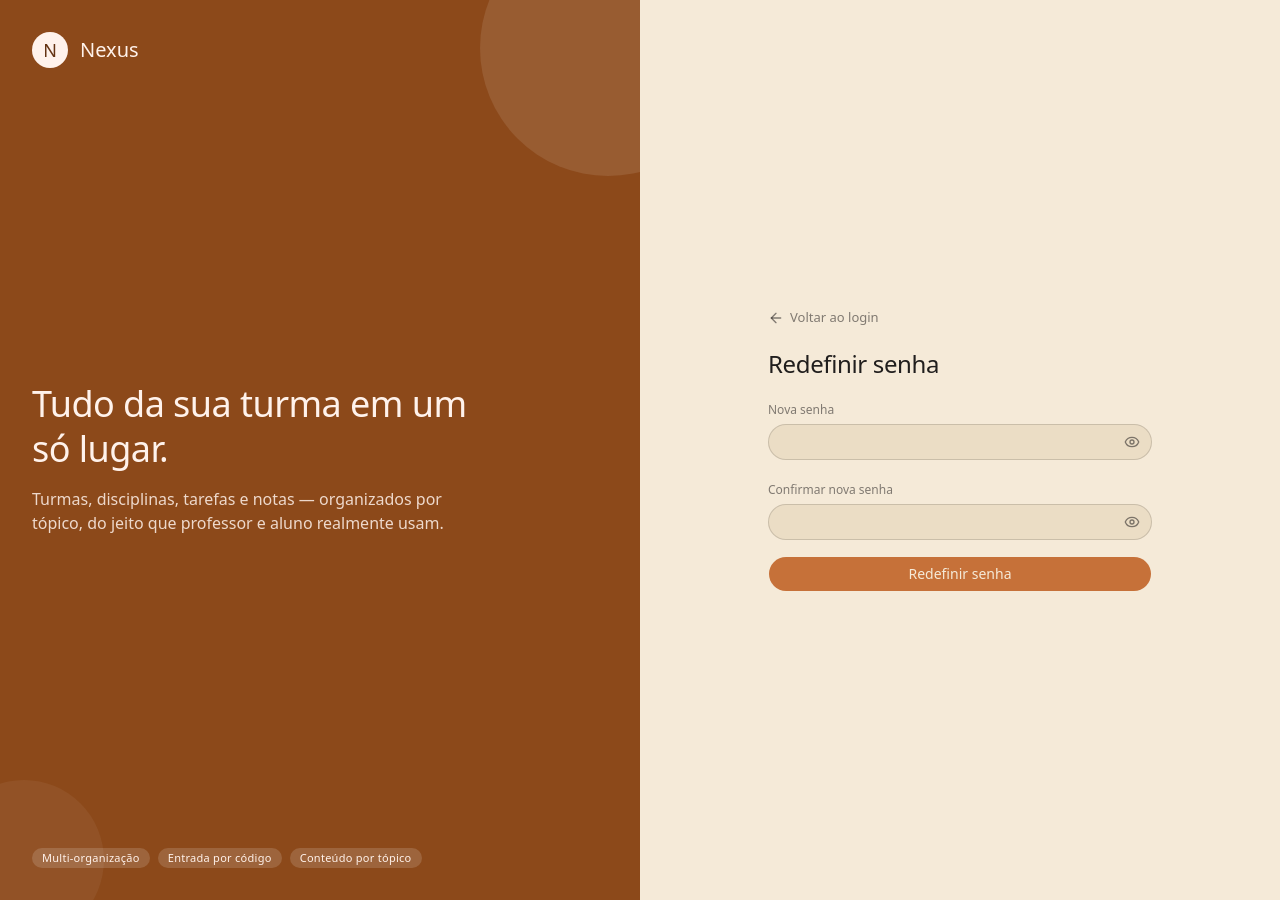
Test: ResetPasswordPage › tells the user to ask for a new link when the token is spent
The image size is (1280, 900).
Type "Senha@123" into the password field labelled "Nova senha" at point(960, 442), box [768,424,1152,460]
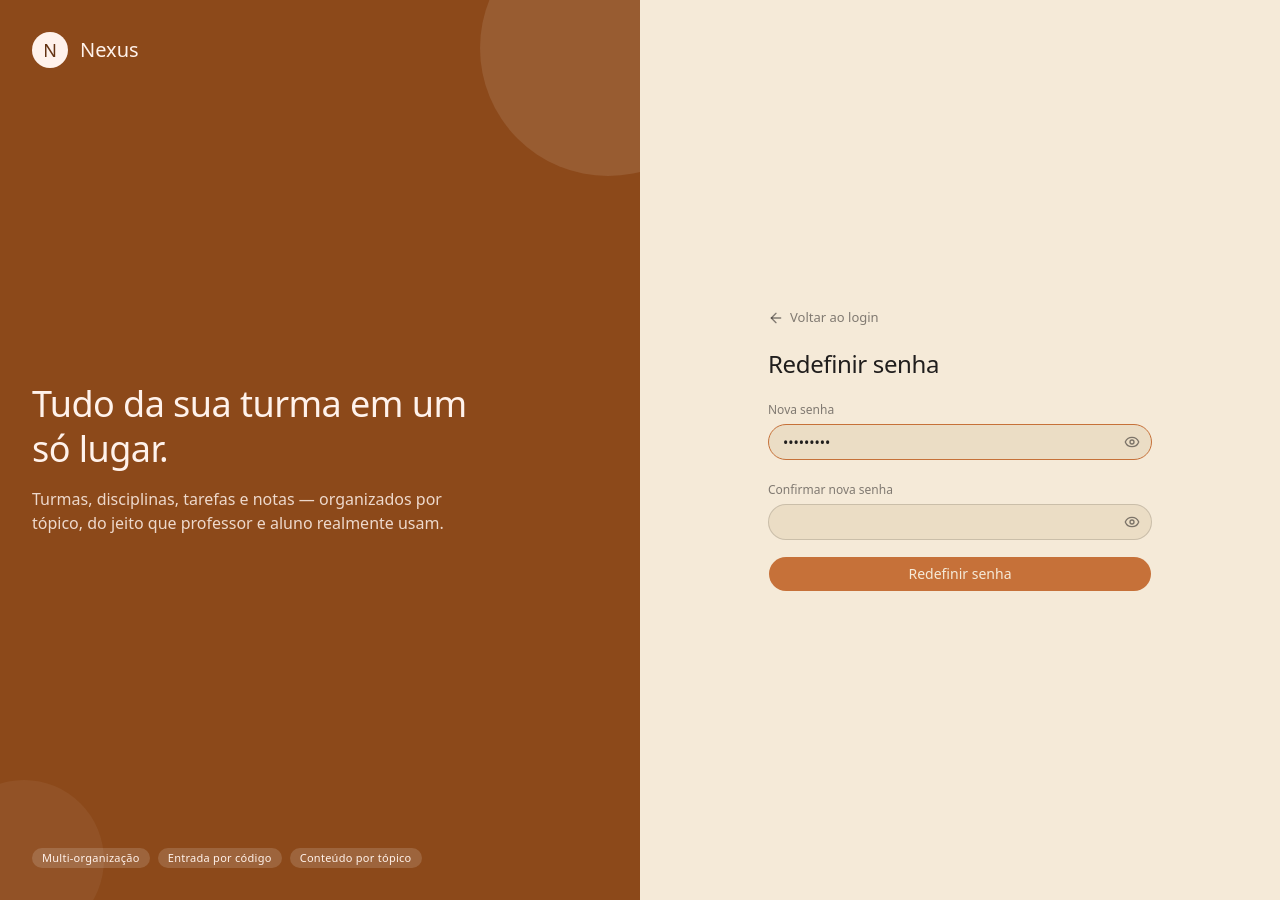
Type "Senha@123" into the password field labelled "Confirmar nova senha" at point(960, 522), box [768,504,1152,540]
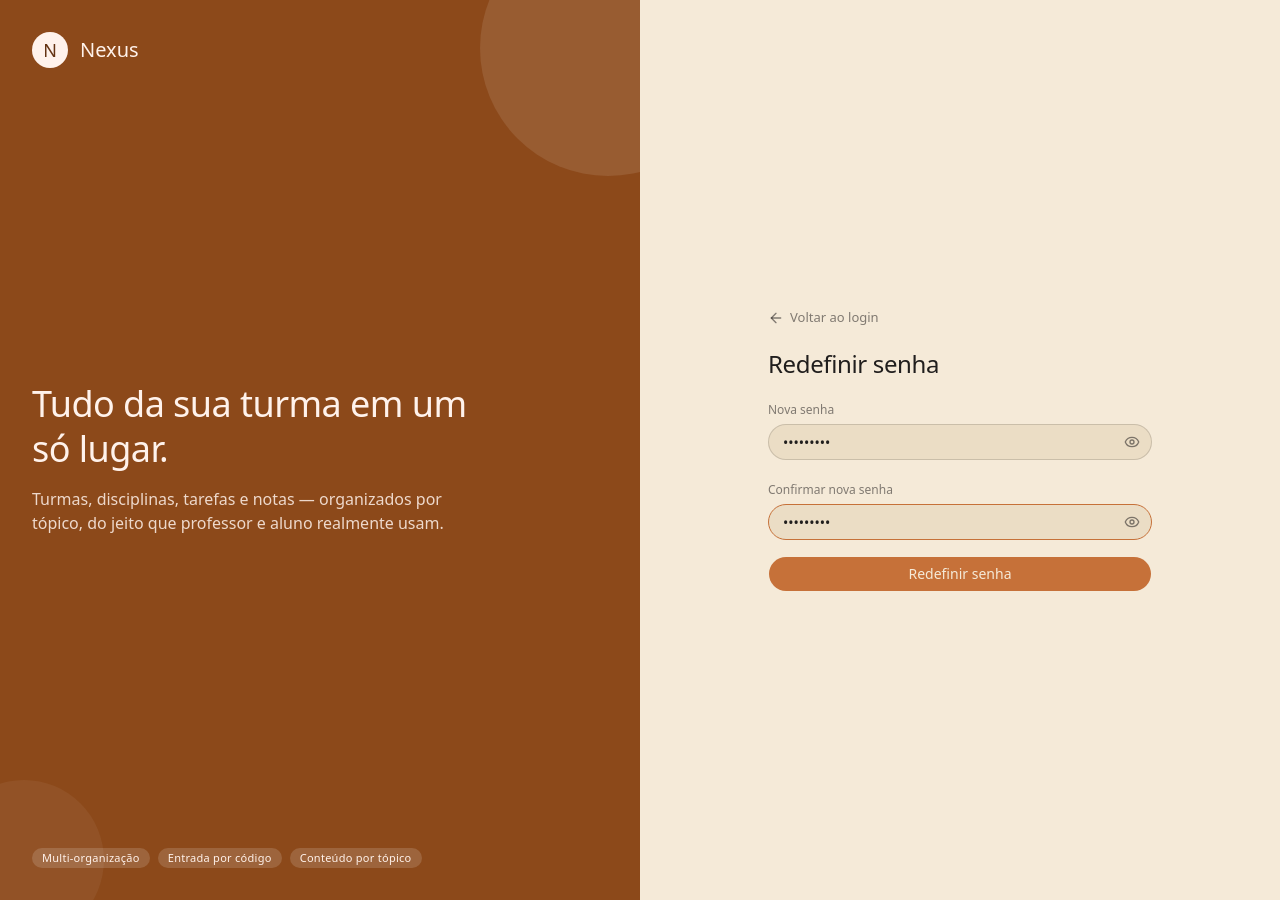
Click the button "Redefinir senha" at point(960, 574), box [768,556,1152,592]
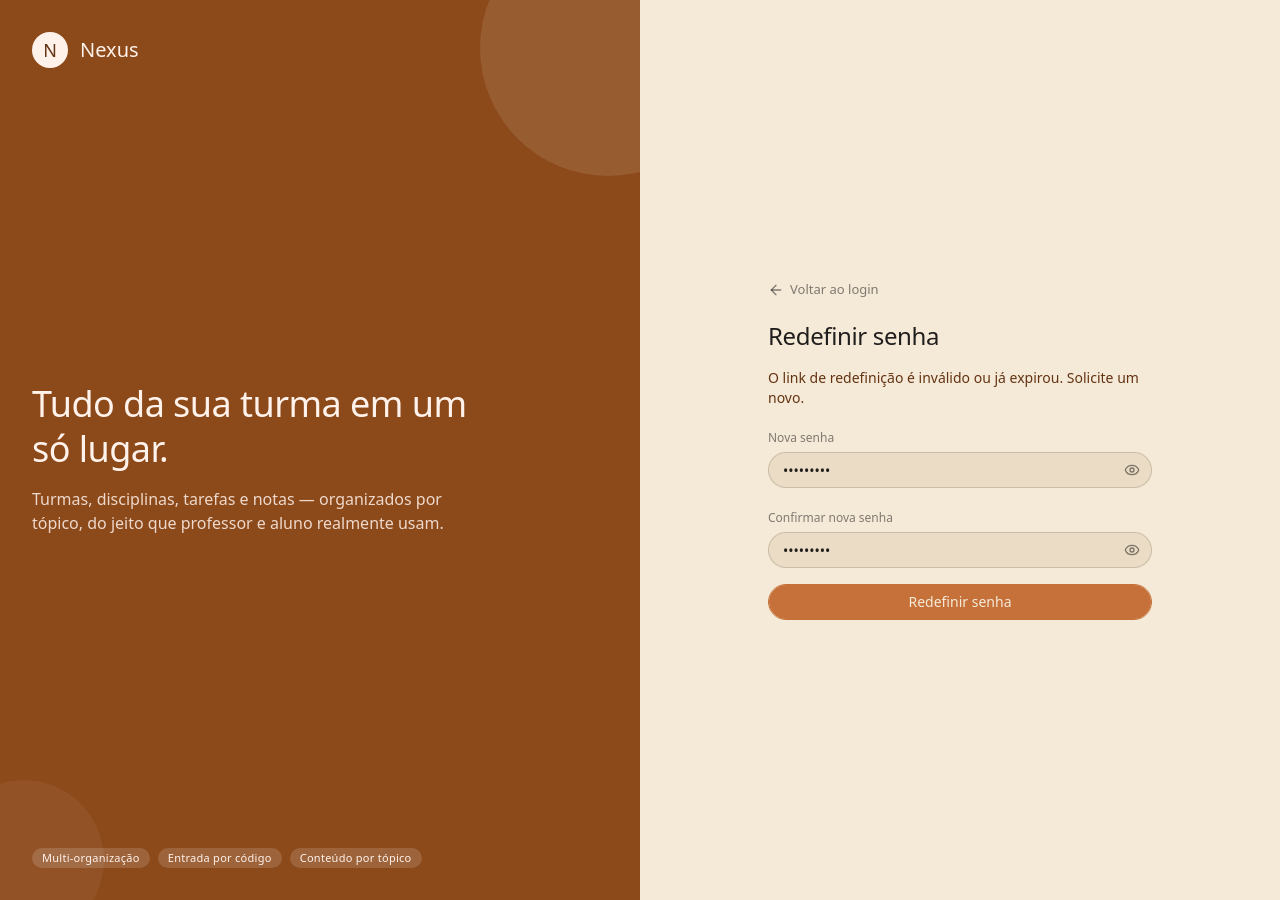
Expected: the message reads "O link de redefinição é inválido ou já expirou. Solicite um novo.", [768,368,1139,407]
